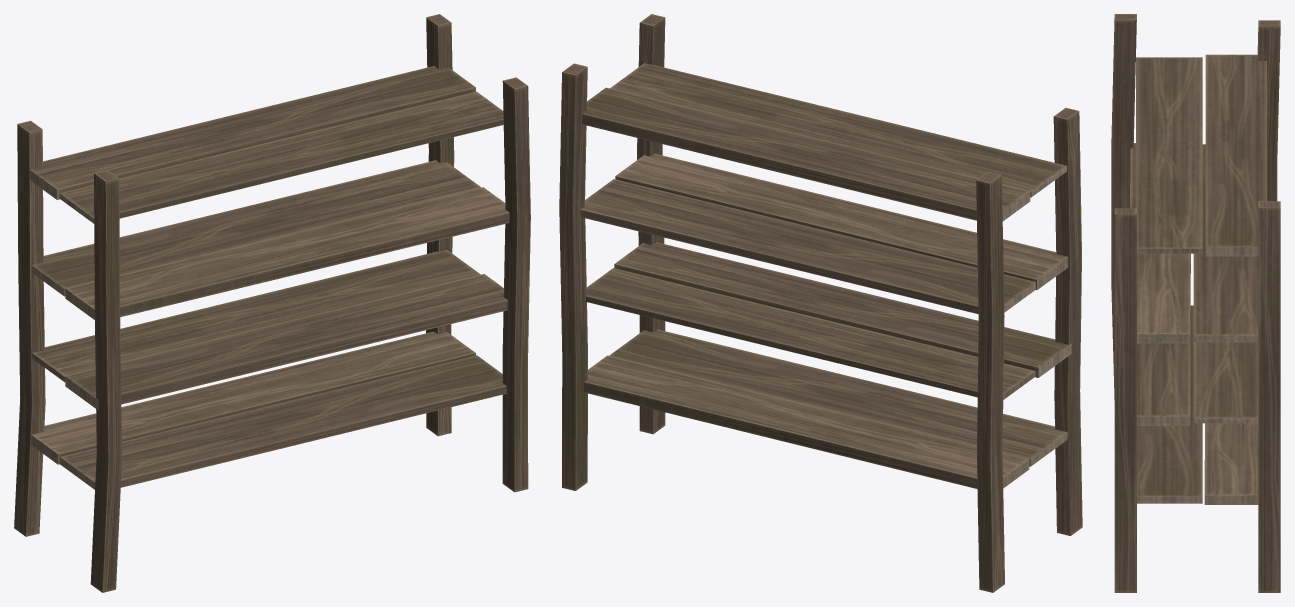
The model's file is SM_shelf_01.fbx.
3 renders of one model, left to right at view 1: azimuth 30°, elevation 25°; view 2: azimuth 150°, elevation 25°; view 3: azimuth 270°, elevation 25°, orthographic. The views are drawn at different scales.
Parts seen in each view (by area): view 1: Object32621; view 2: Object32621; view 3: Object32621.
Part boxes in pixels (x1=…): Object32621: x1=14, y1=14, x2=530, y2=592; Object32621: x1=559, y1=14, x2=1082, y2=592; Object32621: x1=1111, y1=14, x2=1280, y2=592.
Size of the model in its own units: 90.18 by 82.56 by 32.9.
